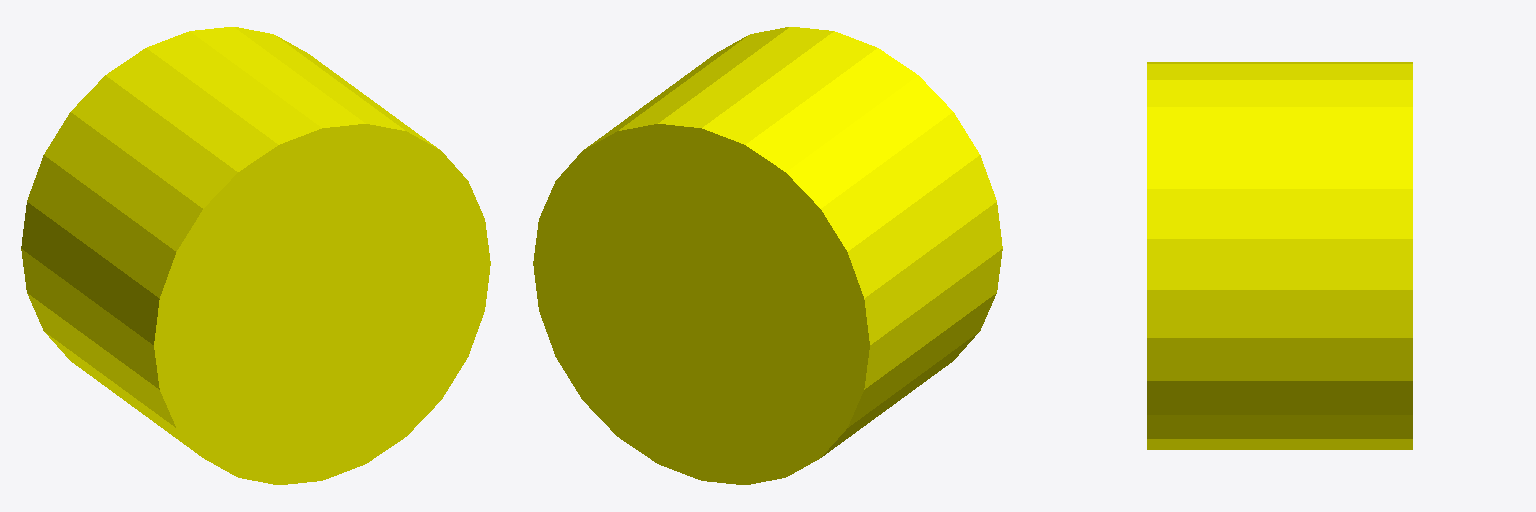
The picture shows the model from 3 angles: view 1: azimuth 30°, elevation 25°; view 2: azimuth 150°, elevation 25°; view 3: azimuth 270°, elevation 25°; orthographic projection.
Parts seen in each view (by area): view 1: pow_bloc_plane-SKP--_Color_E05_; view 2: pow_bloc_plane-SKP--_Color_E05_; view 3: pow_bloc_plane-SKP--_Color_E05_.
Part boxes in pixels (left/top/right/bottom): pow_bloc_plane-SKP--_Color_E05_: left=21, top=27, right=490, bottom=484; pow_bloc_plane-SKP--_Color_E05_: left=533, top=27, right=1002, bottom=484; pow_bloc_plane-SKP--_Color_E05_: left=1147, top=62, right=1412, bottom=449.
Size of the model in its own units: 0.1402 by 0.1402 by 0.0958.
1 materials, 1 textured.